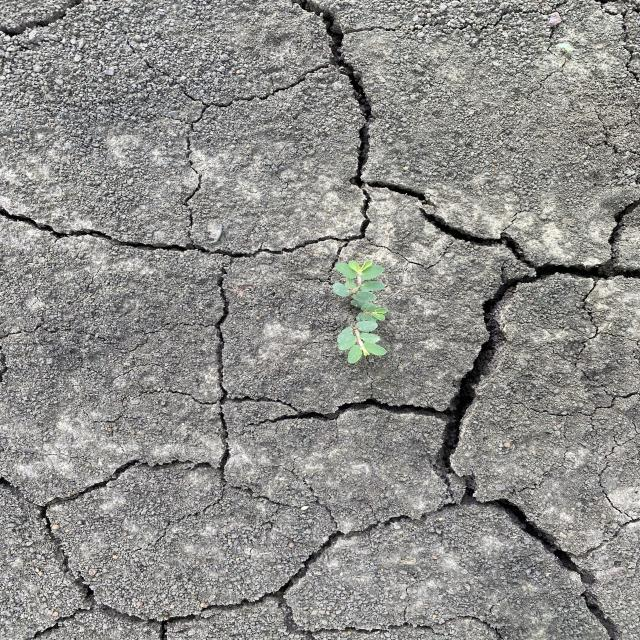SpottedSpurge: (331, 257, 392, 364)
